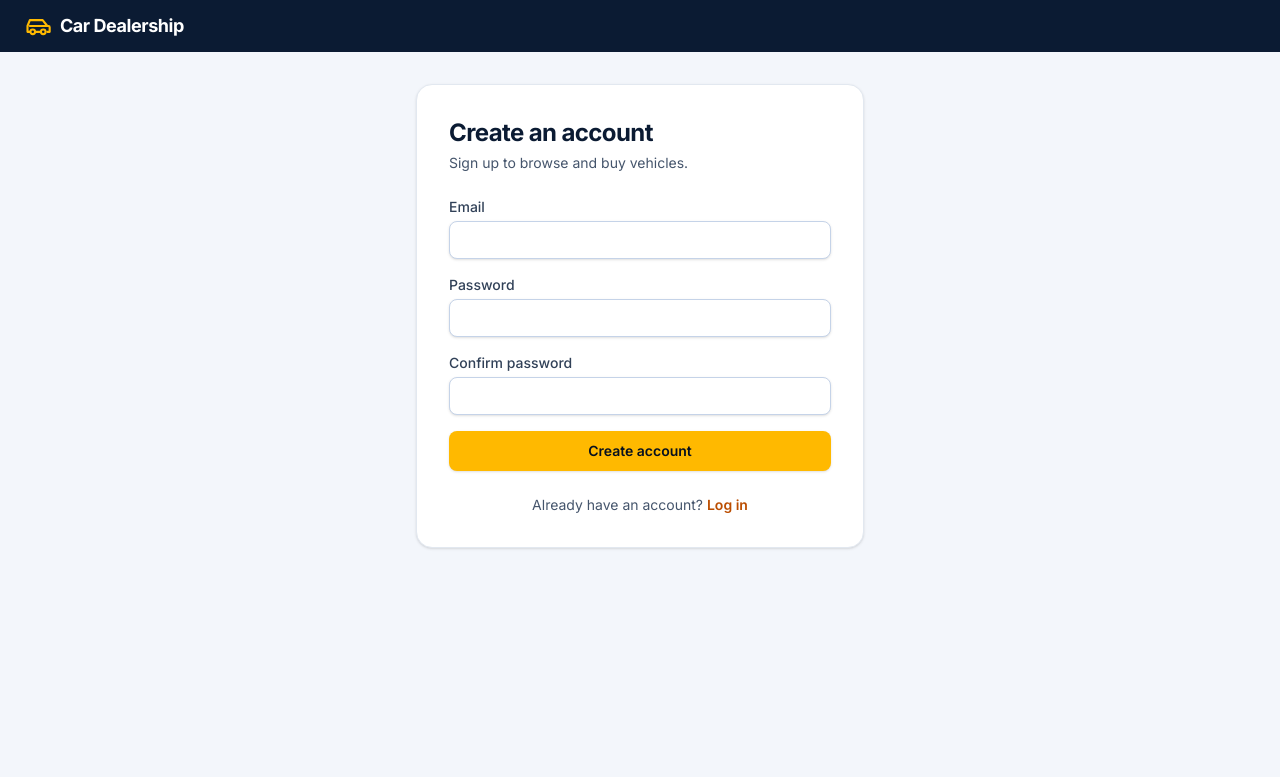
RegisterPage › creates the account, logs in and opens the dashboard
Type "customer@example.com" into the field labelled "Email" at (640, 240), box [449,221,831,259]
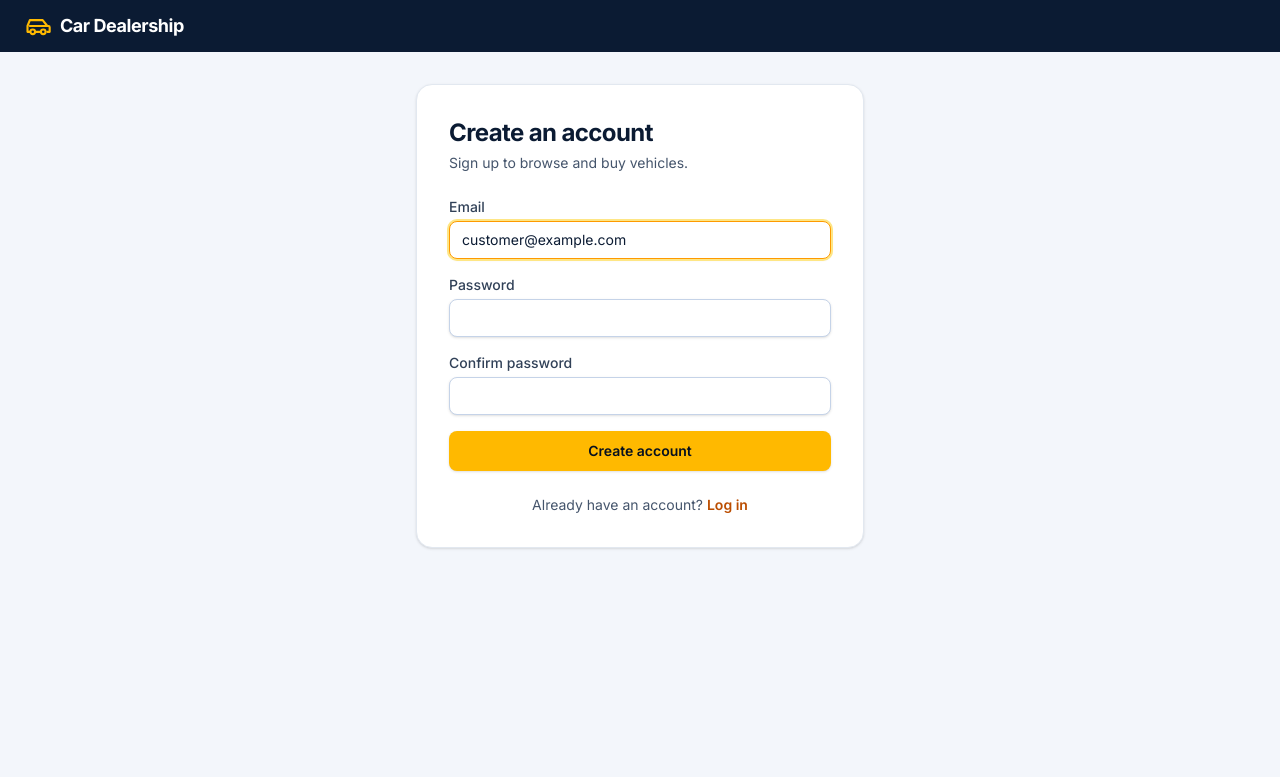
Type "correct-horse" into the password field labelled "Password" at (640, 318), box [449,299,831,337]
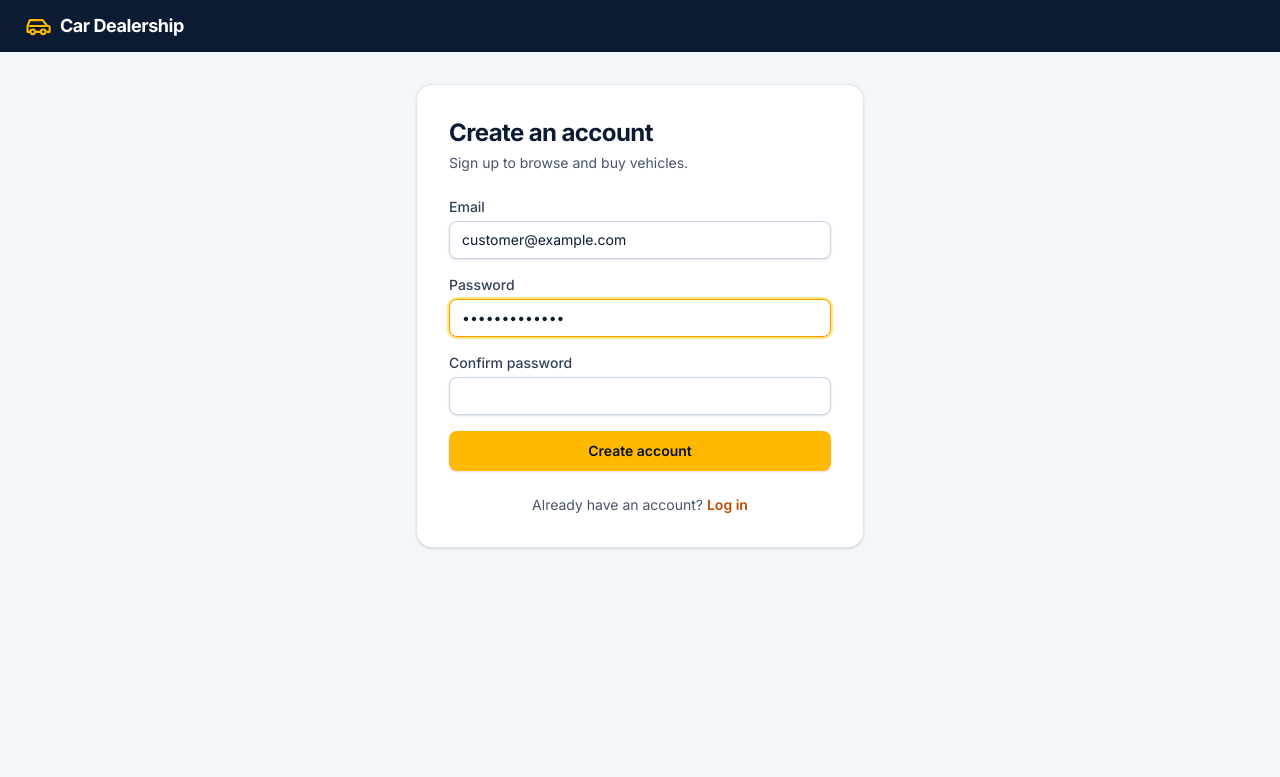
Type "correct-horse" into the password field labelled "Confirm password" at (640, 396), box [449,377,831,415]
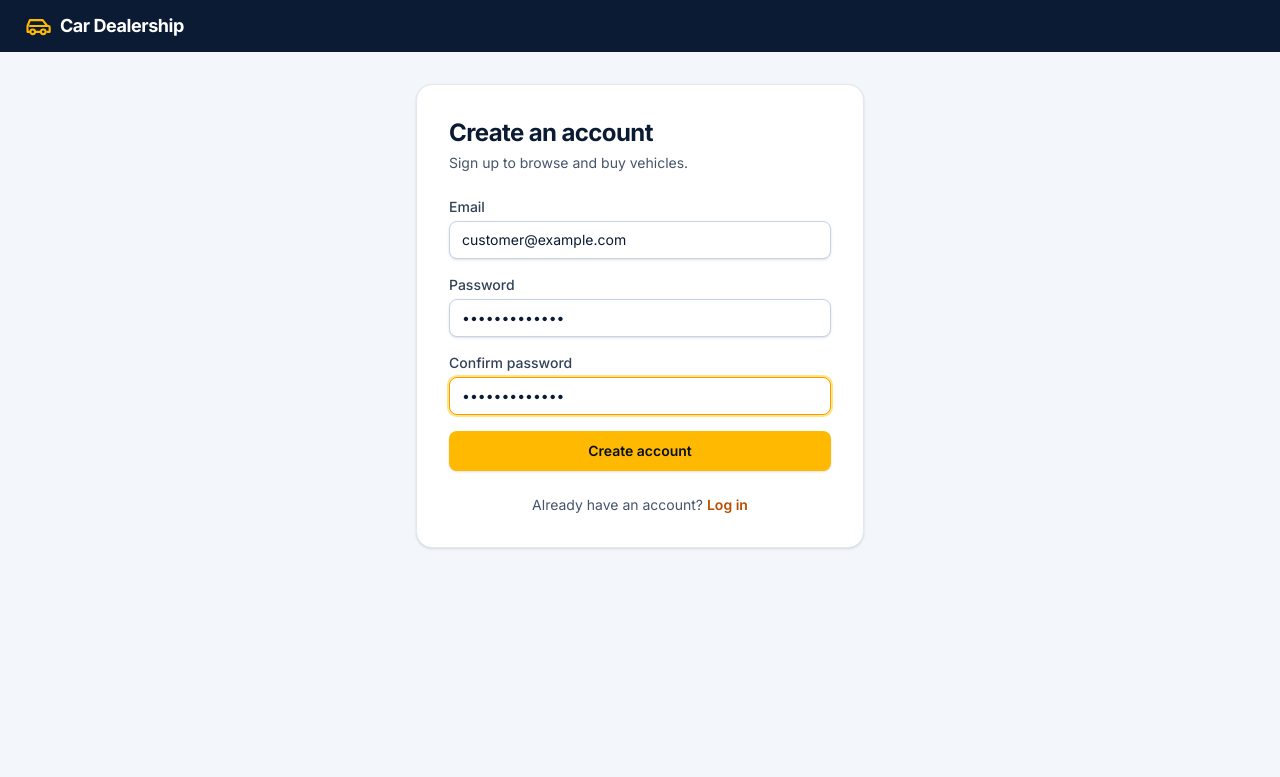
Click the button "Create account" at (640, 451), box [449,431,831,471]
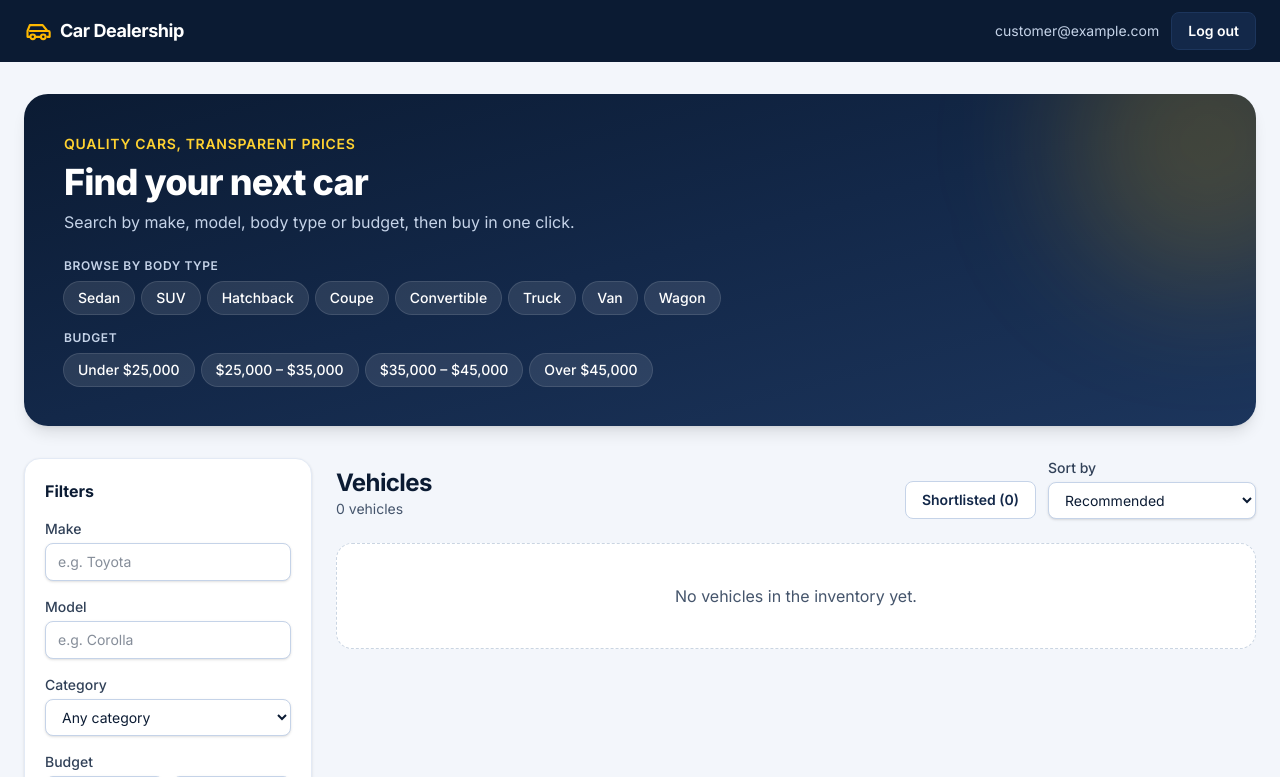
Result: the heading "Vehicles" is shown at [336,467,432,499]
Result: the text "customer@example.com" is shown at [995,21,1159,41]
